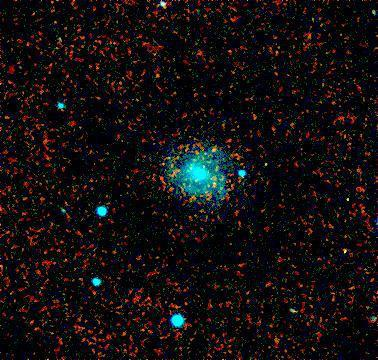star: (201, 138, 231, 168)
